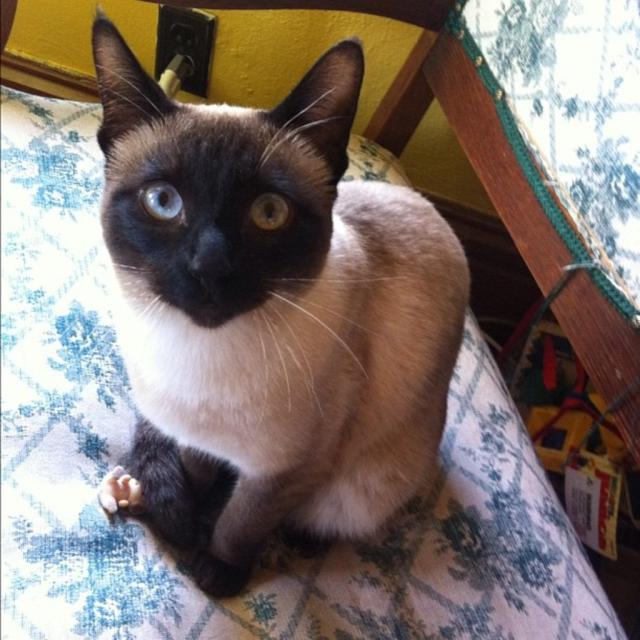Cat: (39, 2, 472, 598)
